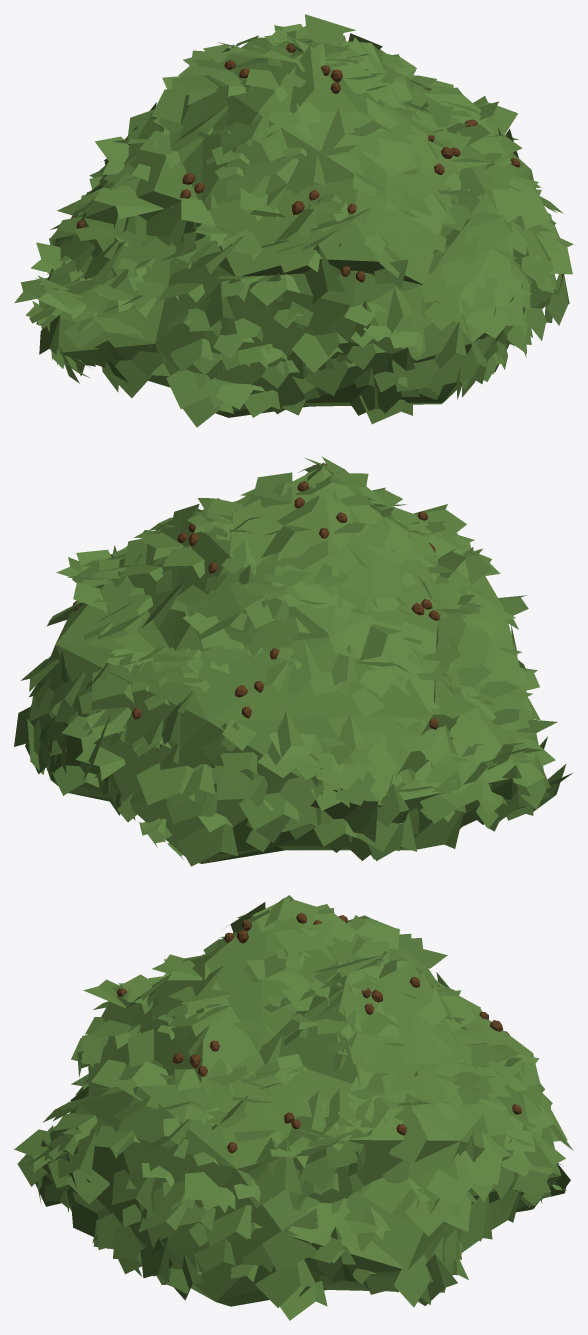
File: SM_Bush_Blackberry_Mature_B.fbx
3 views of the same model, one above another, from view 1: azimuth 30°, elevation 25°; view 2: azimuth 150°, elevation 25°; view 3: azimuth 270°, elevation 25° (orthographic).
Parts seen in each view (by area): view 1: bush-blackberry-mature-b; view 2: bush-blackberry-mature-b; view 3: bush-blackberry-mature-b.
Part boxes in pixels (x1,y1,x2,y2): bush-blackberry-mature-b: (14, 14, 573, 427); bush-blackberry-mature-b: (14, 456, 572, 866); bush-blackberry-mature-b: (14, 895, 573, 1320).
Size of the model in its own units: 3.01 by 1.89 by 2.98.
